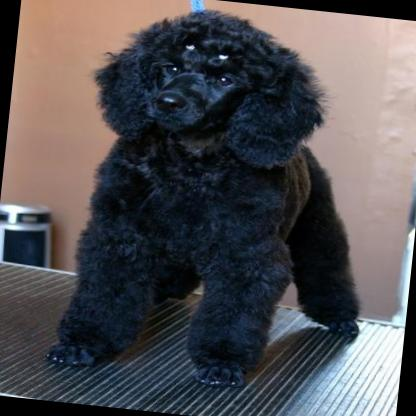miniature_poodle: (42, 0, 397, 402)
